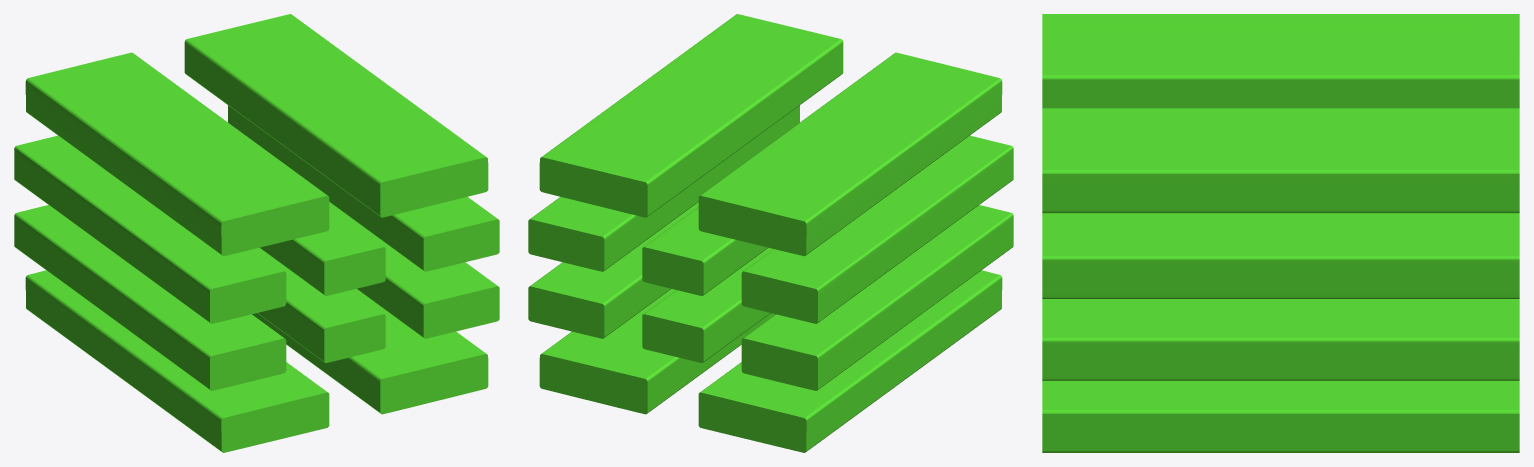
Rendered from tetragram_fixed_material.draco.glb.
3 views of the same model, side by side, from view 1: azimuth 30°, elevation 25°; view 2: azimuth 150°, elevation 25°; view 3: azimuth 270°, elevation 25° (orthographic). The views are drawn at different scales.
Parts seen in each view (by area): view 1: Mesh_0.001; view 2: Mesh_0.001; view 3: Mesh_0.001.
Boxes of the visible parts, box(x1,y1,x2,y2) form: Mesh_0.001: box(14, 14, 499, 452); Mesh_0.001: box(528, 14, 1013, 452); Mesh_0.001: box(1042, 14, 1519, 452).
Bounding box in the file's own units: 42.74 × 32.74 × 50.01.
